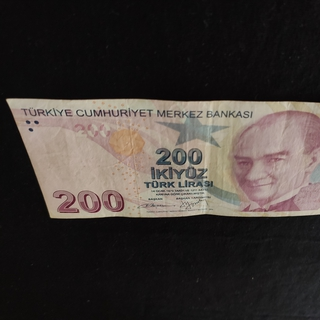200TLFront: (5, 96, 320, 219)
